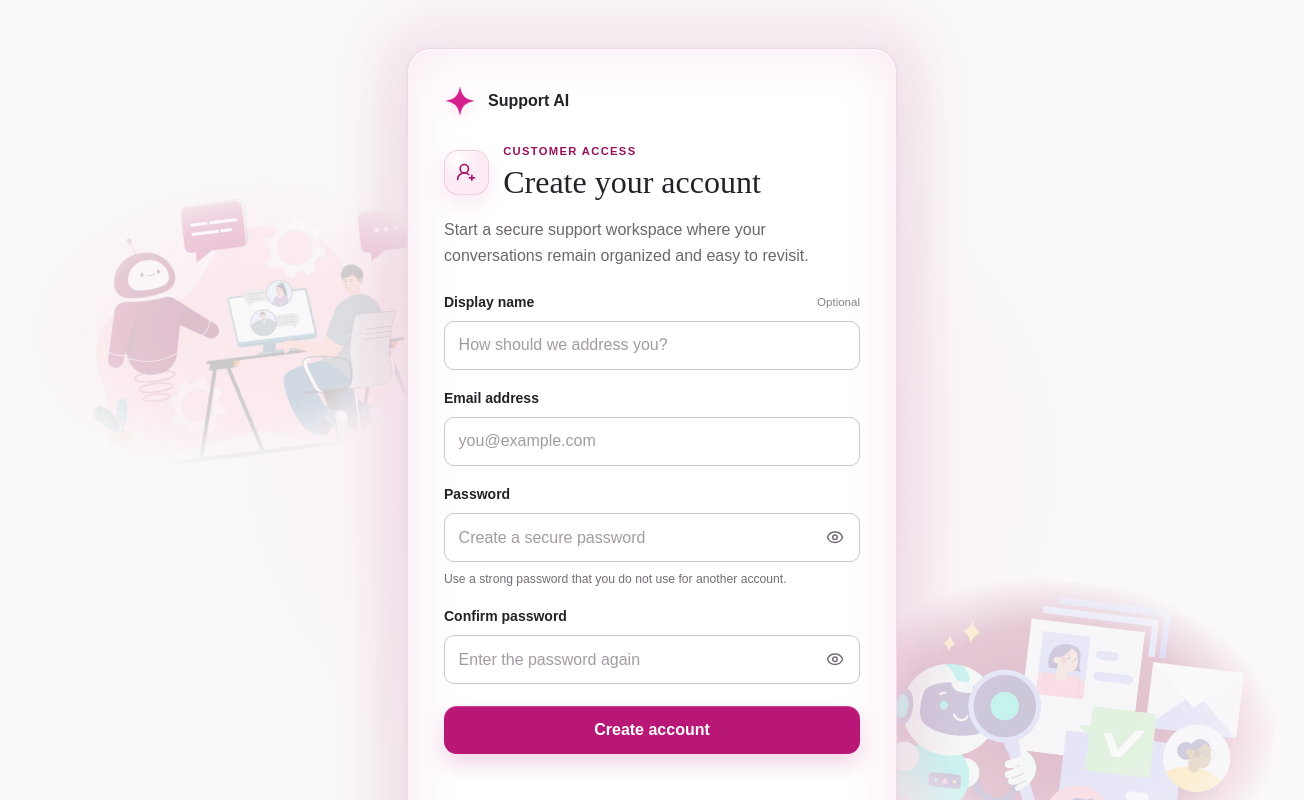
it: registration form › shows a safe duplicate-email error
Type " Customer Name " into the field labelled "Display name Optional".
click(652, 345); type(" Customer Name ")  # box [444,321,860,370]
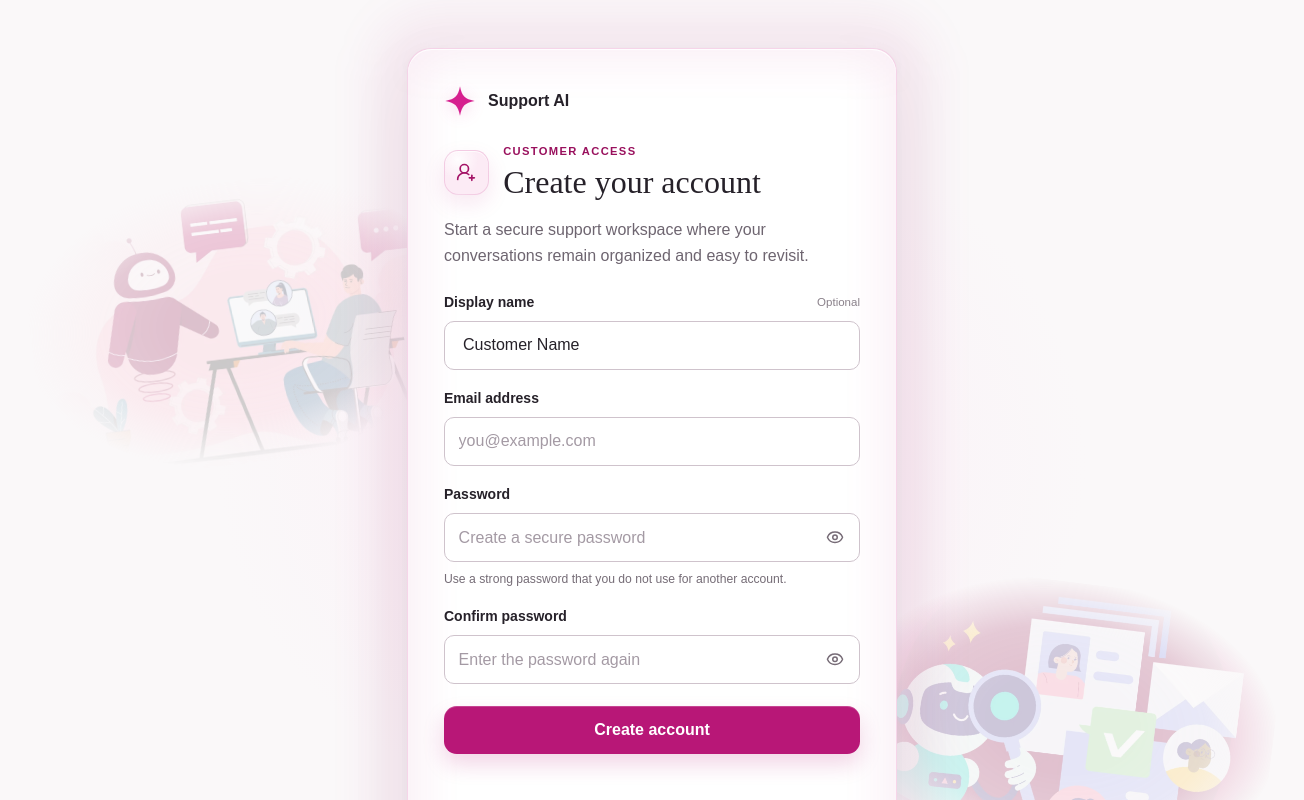
Type " CUSTOMER@example.test " into the field labelled "Email address".
click(652, 441); type(" CUSTOMER@example.test ")  # box [444,417,860,466]
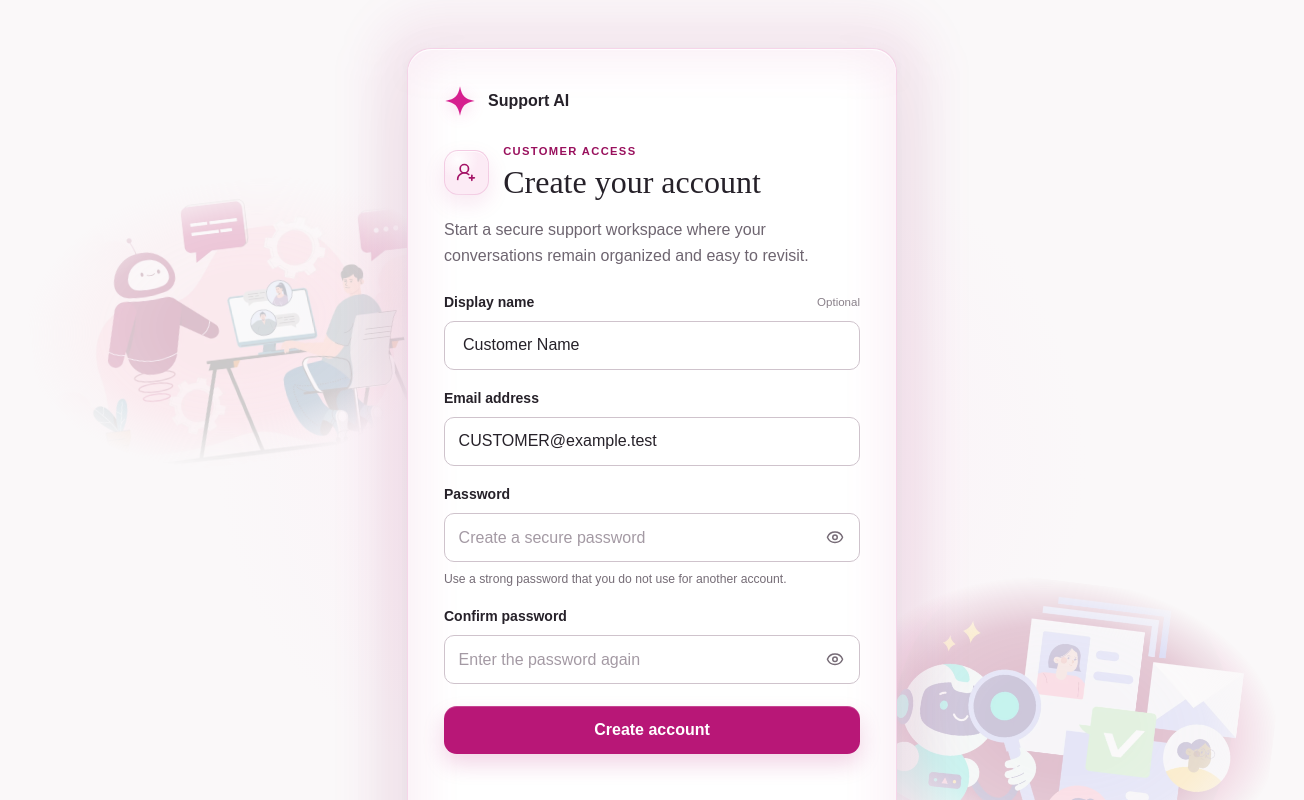
Type "  secure password  " into the password field labelled "Password".
click(652, 538); type("  secure password  ")  # box [444,513,860,562]
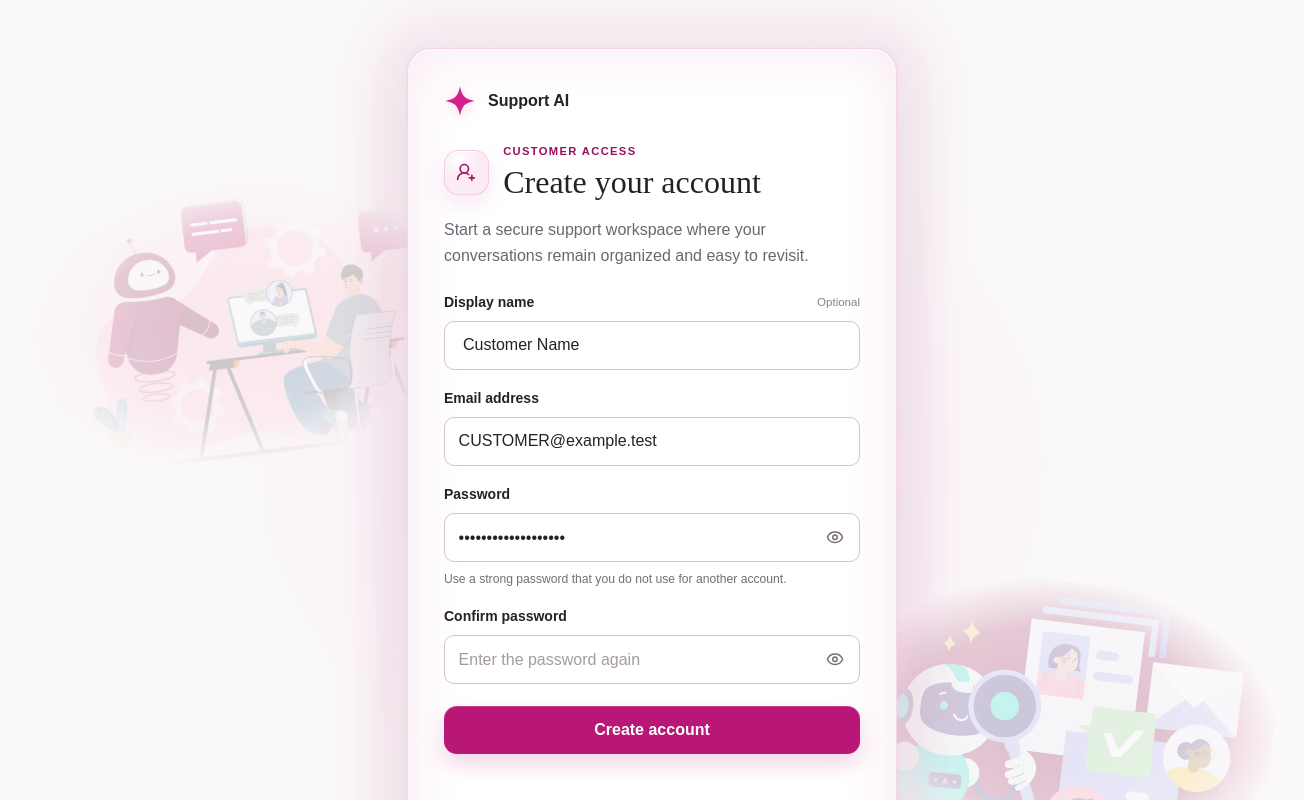
Type "  secure password  " into the password field labelled "Confirm password".
click(652, 660); type("  secure password  ")  # box [444,635,860,684]
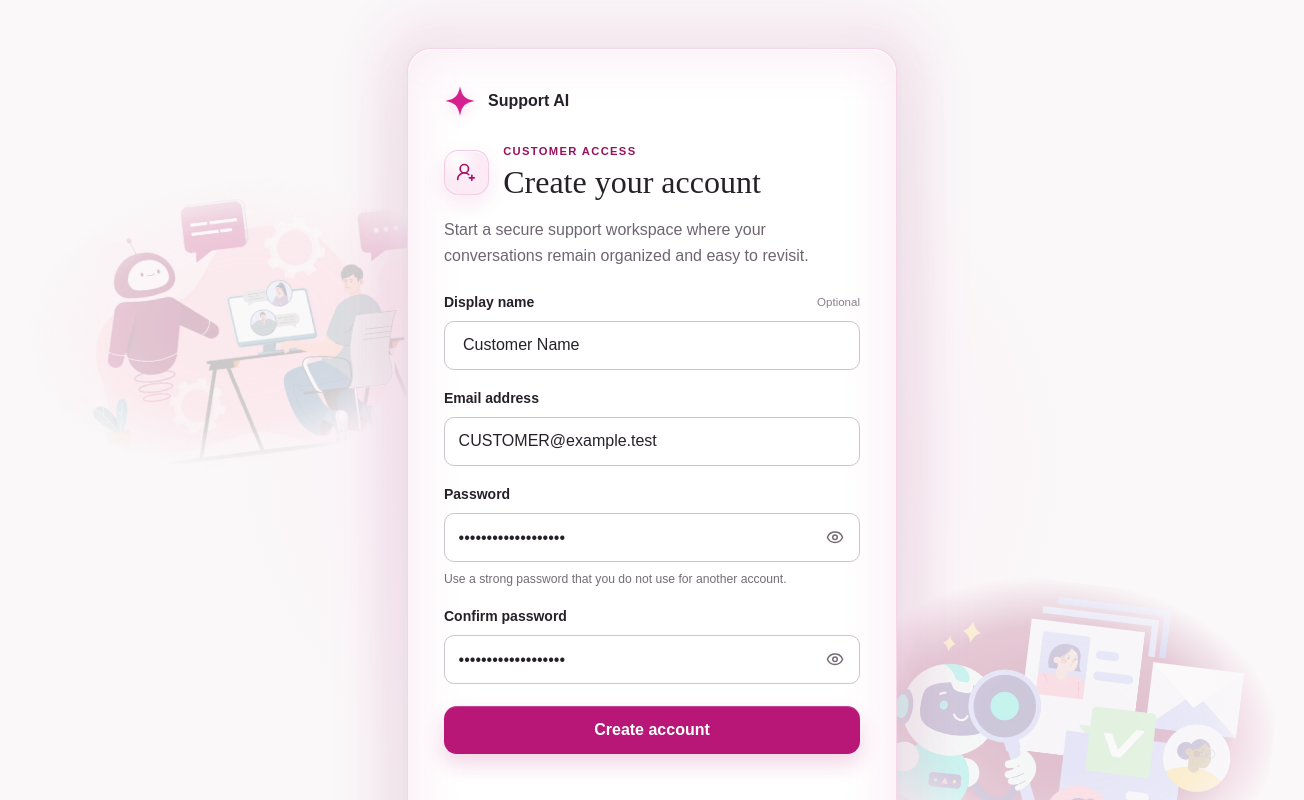
Submit the form named "Create customer account", box [444,292,860,799]
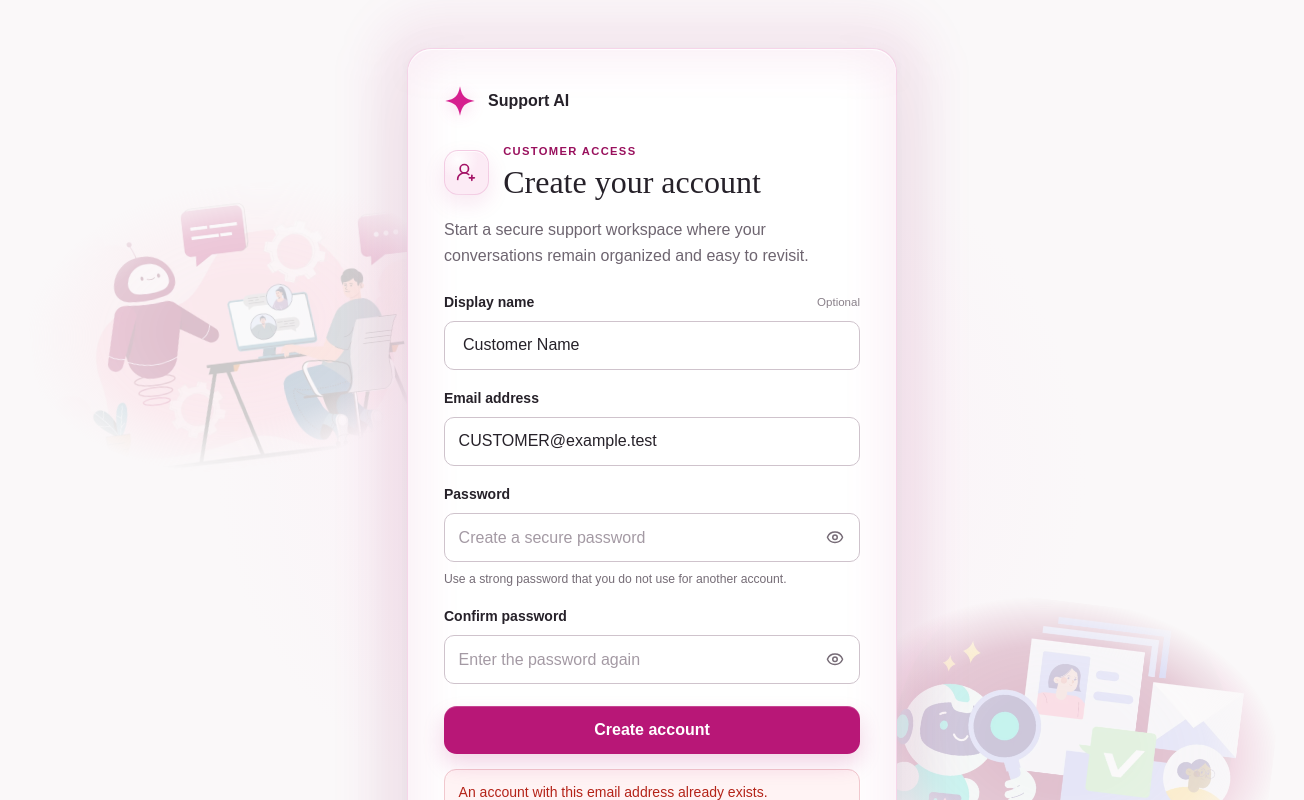
Expected: the message reads "An account with this email address already exists.", [459,784,768,799]
Expected: the password field labelled "Password" is empty, [444,513,860,562]
Expected: the password field labelled "Confirm password" is empty, [444,635,860,684]
